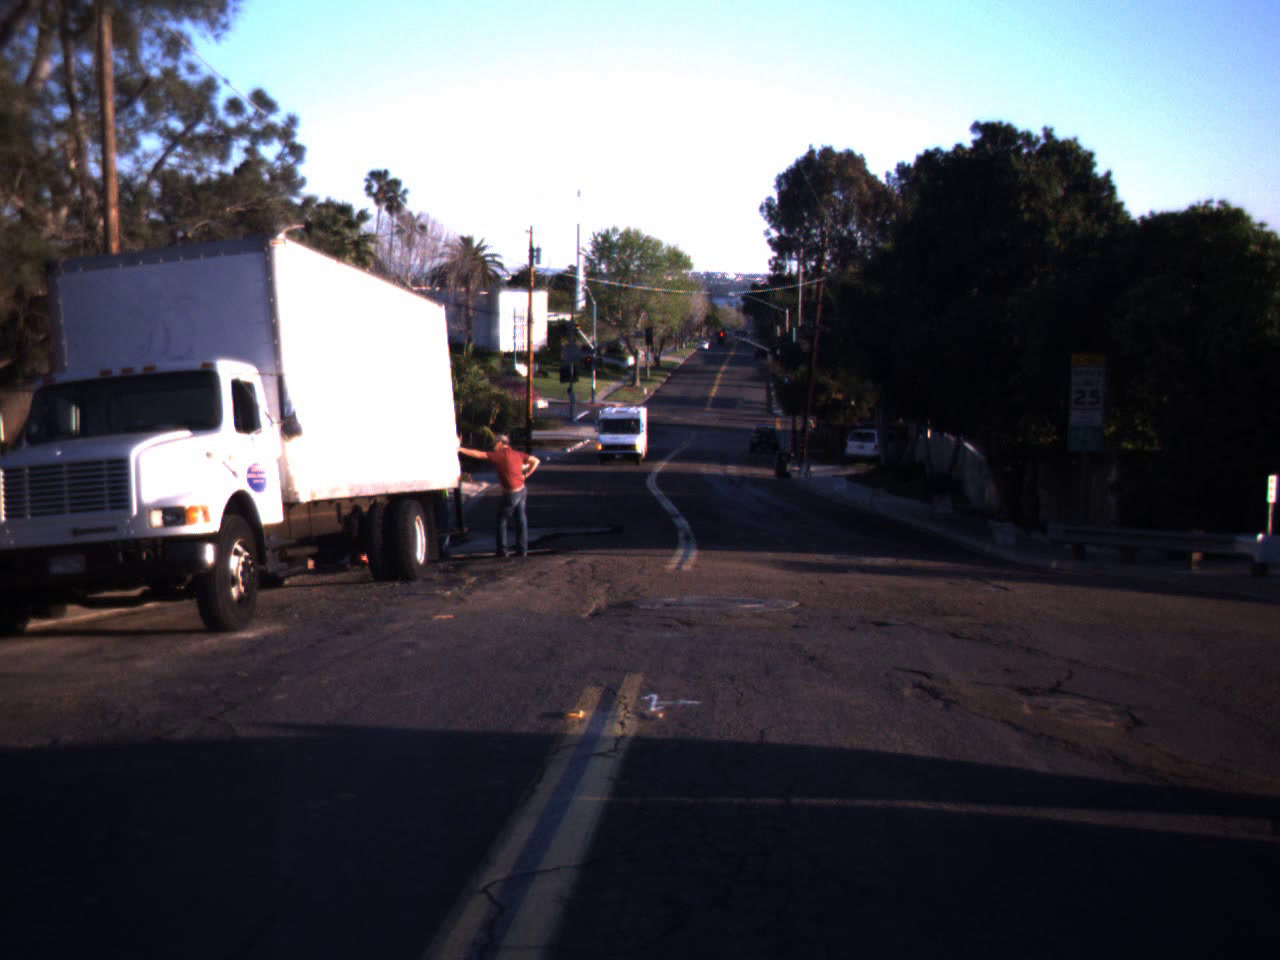stop: (711, 328, 732, 355), (580, 353, 598, 380)
